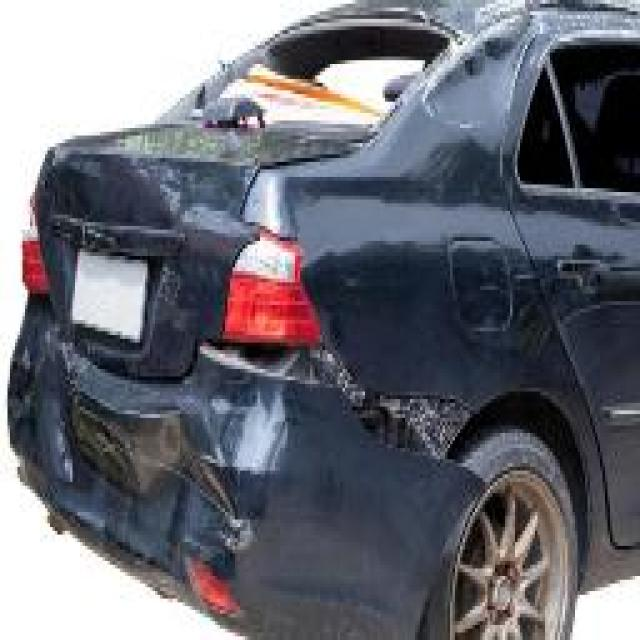Bumper: (8, 335, 465, 640)
Windshield: (180, 23, 395, 139)
